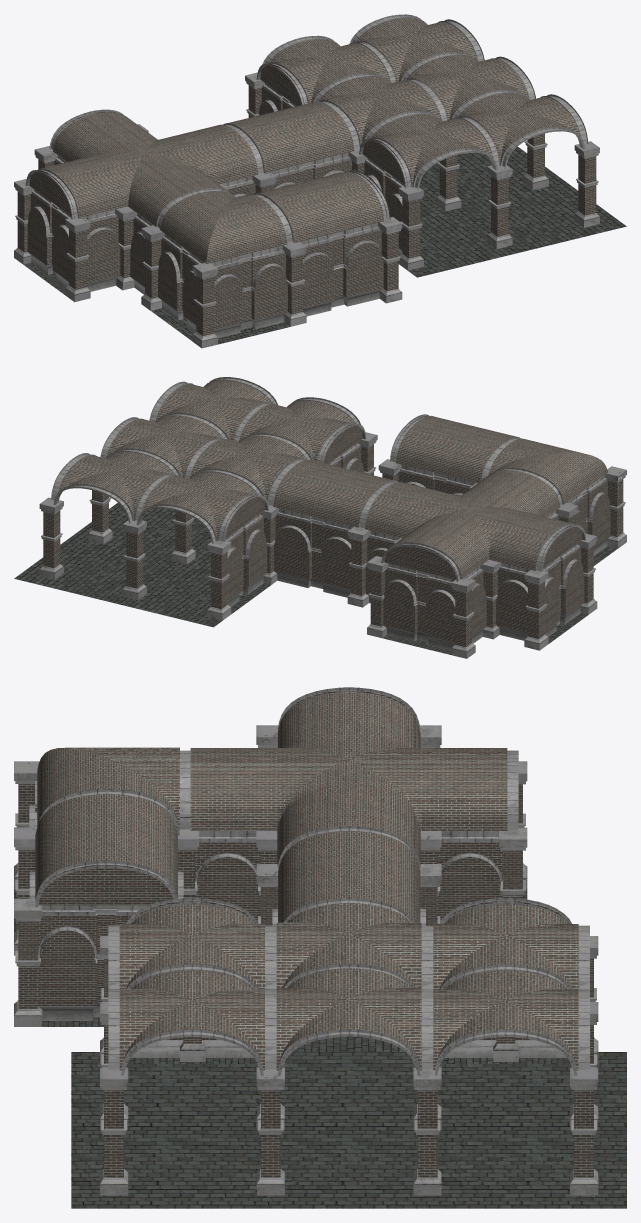
File: environment.gltf
3 views of the same model, one above another, from view 1: azimuth 30°, elevation 25°; view 2: azimuth 150°, elevation 25°; view 3: azimuth 270°, elevation 25° (orthographic). The views are drawn at different scales.
Visible parts, largest first — view 1: TECHO PROFE004_RED BRICKS_0, Plane001_RED BRICKS_0, ARCO BUENO008_RED BRICKS_0, ARCO BUENO007_RED BRICKS_0, Plane001_PIEDRA_0, Plane007_SUELO_0, culumna nueva 059_RED BRICKS_0, Plane004_SUELO_0, TECHO PROFE009_RED BRICKS_0, TECHO PROFE006_RED BRICKS_0, TECHO PROFE010_RED BRICKS_0, TECHO PROFE007_RED BRICKS_0 (+27 smaller); view 2: TECHO PROFE004_RED BRICKS_0, ARCO BUENO007_RED BRICKS_0, culumna nueva 056_RED BRICKS_0, Plane001_RED BRICKS_0, ARCO BUENO008_RED BRICKS_0, Plane006_SUELO_0, culumna nueva 059_RED BRICKS_0, culumna nueva 057_RED BRICKS_0, Plane003_SUELO_0, TECHO PROFE006_RED BRICKS_0, TECHO PROFE009_RED BRICKS_0, TECHO PROFE011_RED BRICKS_0 (+27 smaller); view 3: TECHO PROFE004_RED BRICKS_0, Plane006_SUELO_0, Plane007_SUELO_0, culumna nueva 055_RED BRICKS_0, Plane005_SUELO_0, Plane003_SUELO_0, Plane004_SUELO_0, Plane002_SUELO_0, ARCO BUENO008_RED BRICKS_0, ARCO BUENO007_RED BRICKS_0, TECHO PROFE009_RED BRICKS_0, TECHO PROFE006_RED BRICKS_0 (+35 smaller).
Part boxes in pixels (bbox=[...]): TECHO PROFE004_RED BRICKS_0: bbox=[42, 112, 258, 286]; Plane001_RED BRICKS_0: bbox=[145, 191, 302, 336]; ARCO BUENO008_RED BRICKS_0: bbox=[259, 171, 383, 308]; ARCO BUENO007_RED BRICKS_0: bbox=[228, 101, 354, 189]; Plane001_PIEDRA_0: bbox=[141, 188, 306, 348]; Plane007_SUELO_0: bbox=[462, 182, 626, 251]; culumna nueva 059_RED BRICKS_0: bbox=[17, 170, 86, 289]; Plane004_SUELO_0: bbox=[408, 208, 521, 277]; TECHO PROFE009_RED BRICKS_0: bbox=[406, 54, 529, 120]; TECHO PROFE006_RED BRICKS_0: bbox=[318, 76, 441, 145]; TECHO PROFE010_RED BRICKS_0: bbox=[458, 93, 580, 165]; TECHO PROFE007_RED BRICKS_0: bbox=[371, 114, 492, 186]; TECHO PROFE004_RED BRICKS_0: bbox=[365, 470, 570, 636]; ARCO BUENO007_RED BRICKS_0: bbox=[273, 459, 392, 589]; culumna nueva 056_RED BRICKS_0: bbox=[370, 544, 471, 647]; Plane001_RED BRICKS_0: bbox=[488, 438, 623, 547]; ARCO BUENO008_RED BRICKS_0: bbox=[396, 416, 520, 495]; Plane006_SUELO_0: bbox=[14, 536, 170, 602]; culumna nueva 059_RED BRICKS_0: bbox=[528, 525, 593, 638]; culumna nueva 057_RED BRICKS_0: bbox=[210, 495, 275, 609]; Plane003_SUELO_0: bbox=[114, 561, 221, 627]; TECHO PROFE006_RED BRICKS_0: bbox=[190, 435, 307, 501]; TECHO PROFE009_RED BRICKS_0: bbox=[107, 415, 223, 477]; TECHO PROFE011_RED BRICKS_0: bbox=[58, 452, 174, 520]; TECHO PROFE004_RED BRICKS_0: bbox=[190, 692, 507, 921]; Plane006_SUELO_0: bbox=[441, 1130, 626, 1208]; Plane007_SUELO_0: bbox=[71, 1130, 256, 1208]; culumna nueva 055_RED BRICKS_0: bbox=[18, 865, 172, 1009]; Plane005_SUELO_0: bbox=[256, 1130, 441, 1208]; Plane003_SUELO_0: bbox=[441, 1052, 626, 1130]; Plane004_SUELO_0: bbox=[71, 1052, 256, 1130]; Plane002_SUELO_0: bbox=[256, 1052, 441, 1130]; ARCO BUENO008_RED BRICKS_0: bbox=[35, 794, 177, 899]; ARCO BUENO007_RED BRICKS_0: bbox=[278, 831, 420, 922]; TECHO PROFE009_RED BRICKS_0: bbox=[276, 968, 421, 1070]; TECHO PROFE006_RED BRICKS_0: bbox=[276, 903, 421, 987].
Bounding box in the file's own units: 3.77 × 0.7562 × 2.66.
3 materials, 3 textured.
